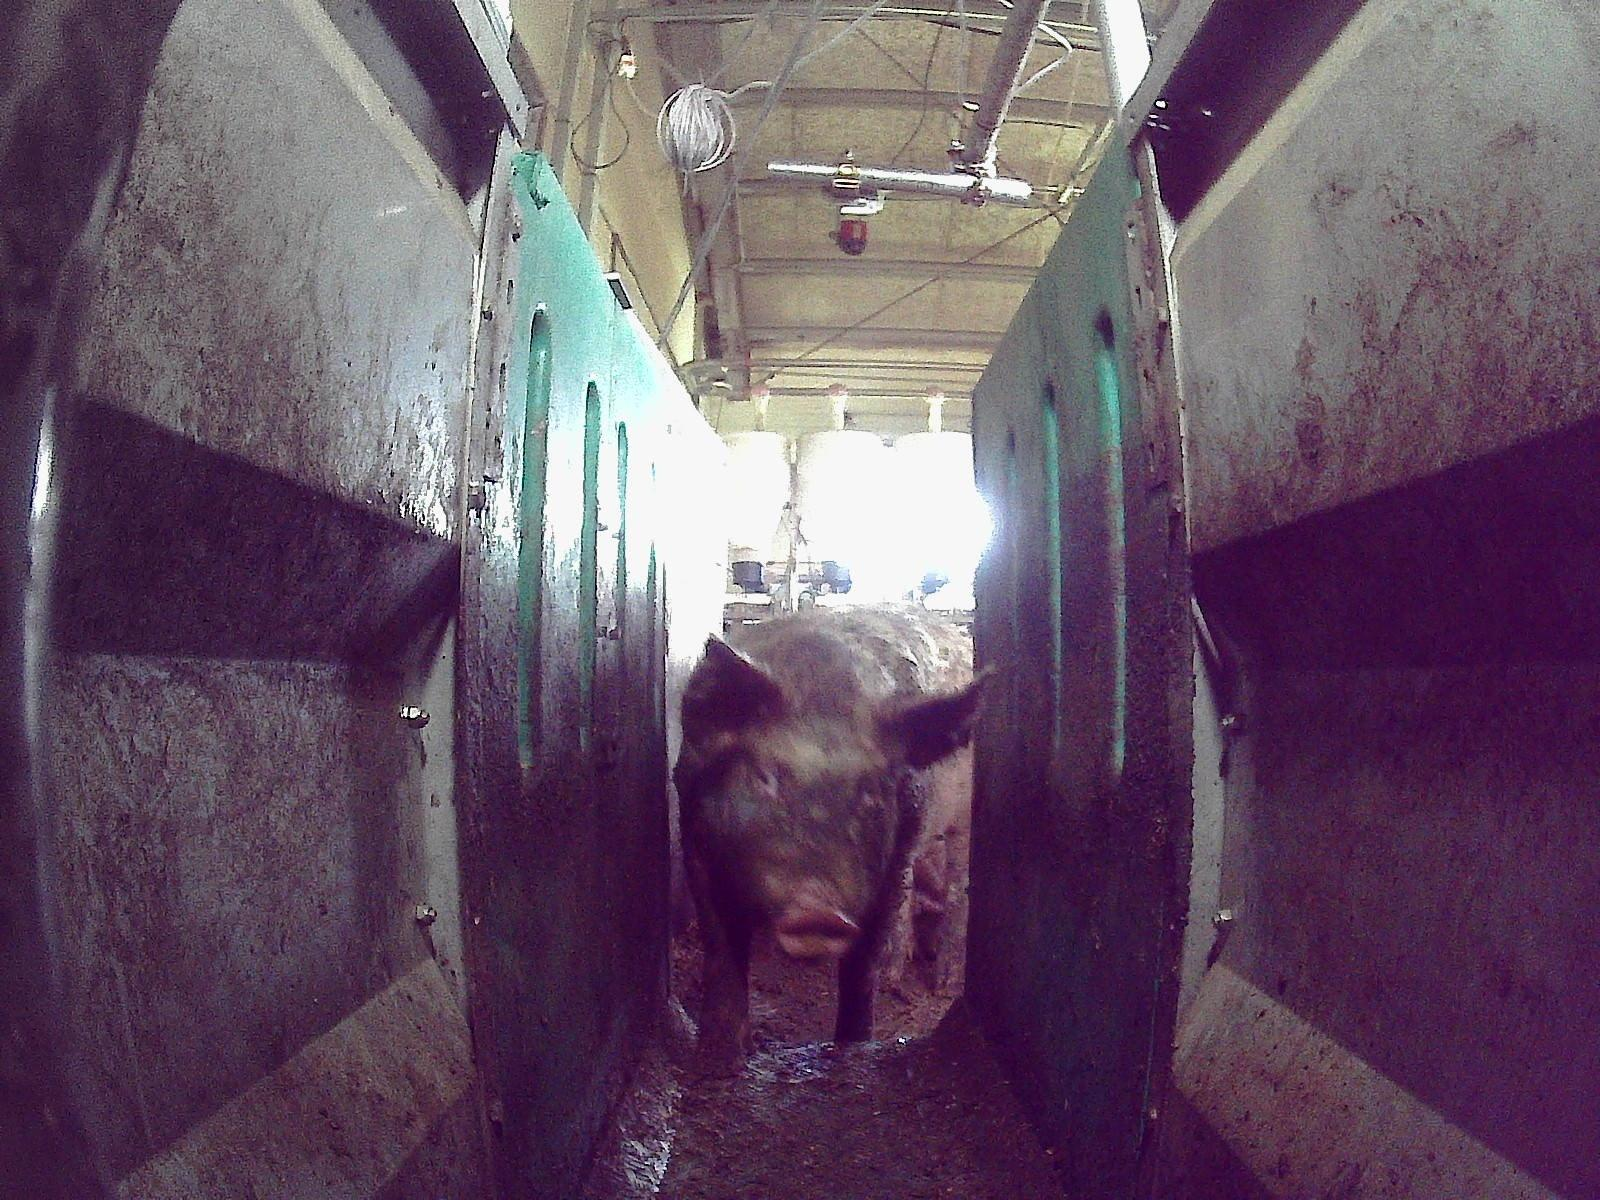Face: (727, 712, 901, 960)
